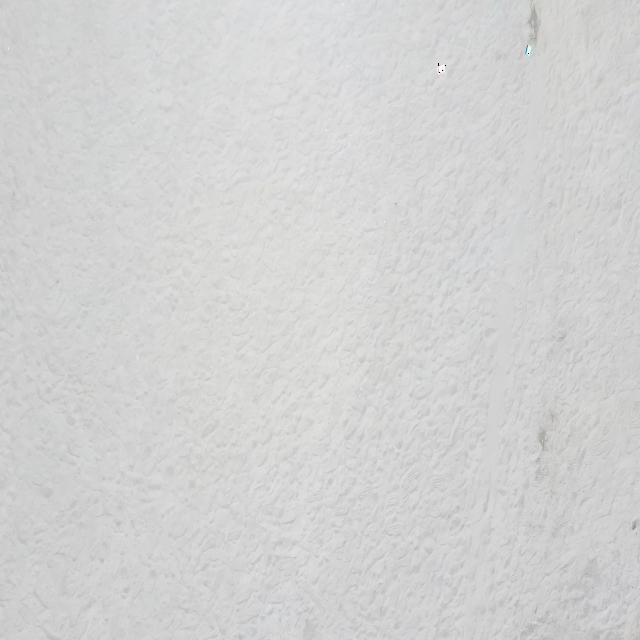retort-pouch: (437, 62, 448, 74), (526, 43, 534, 56)
